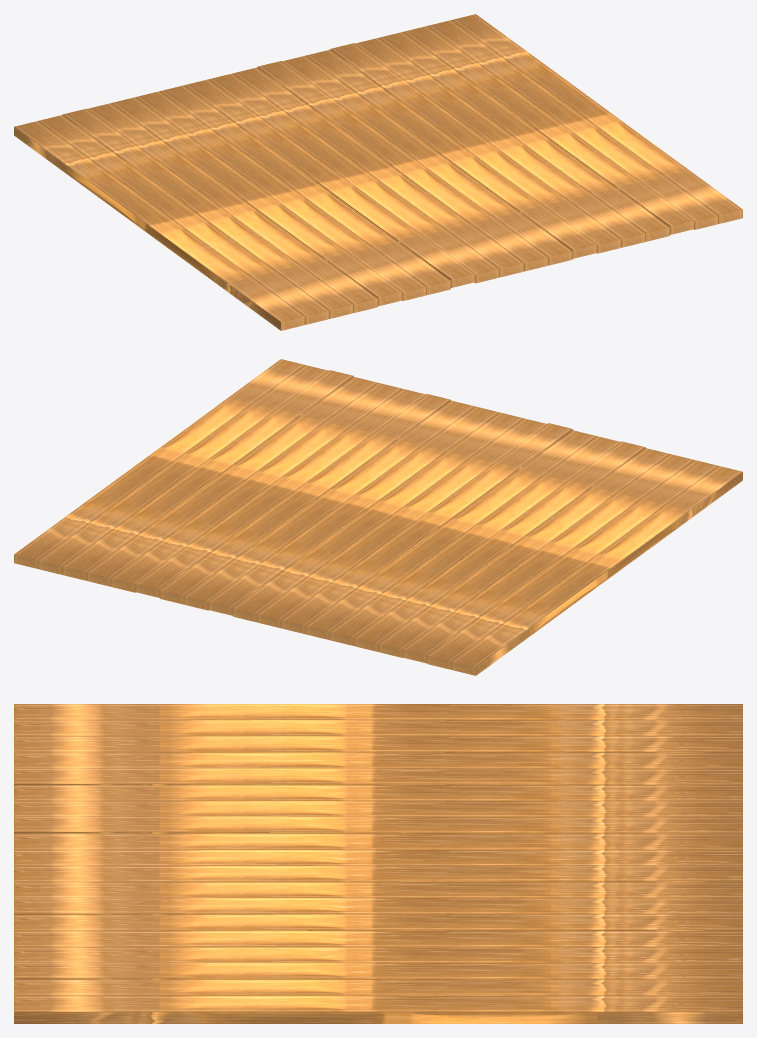
The model's file is SM_Wood_Floor_01.fbx.
The picture shows the model from 3 angles, top to bottom: view 1: azimuth 30°, elevation 25°; view 2: azimuth 150°, elevation 25°; view 3: azimuth 270°, elevation 25°; orthographic projection. The views are drawn at different scales.
Visible parts, largest first — view 1: SM_Wood_Floor_01_LOD0; view 2: SM_Wood_Floor_01_LOD0; view 3: SM_Wood_Floor_01_LOD0.
Boxes of the visible parts, box(x1,y1,x2,y2) form: SM_Wood_Floor_01_LOD0: box(14, 14, 742, 330); SM_Wood_Floor_01_LOD0: box(14, 359, 742, 675); SM_Wood_Floor_01_LOD0: box(14, 704, 742, 1023).
Size of the model in its own units: 400 by 400 by 8.29.
